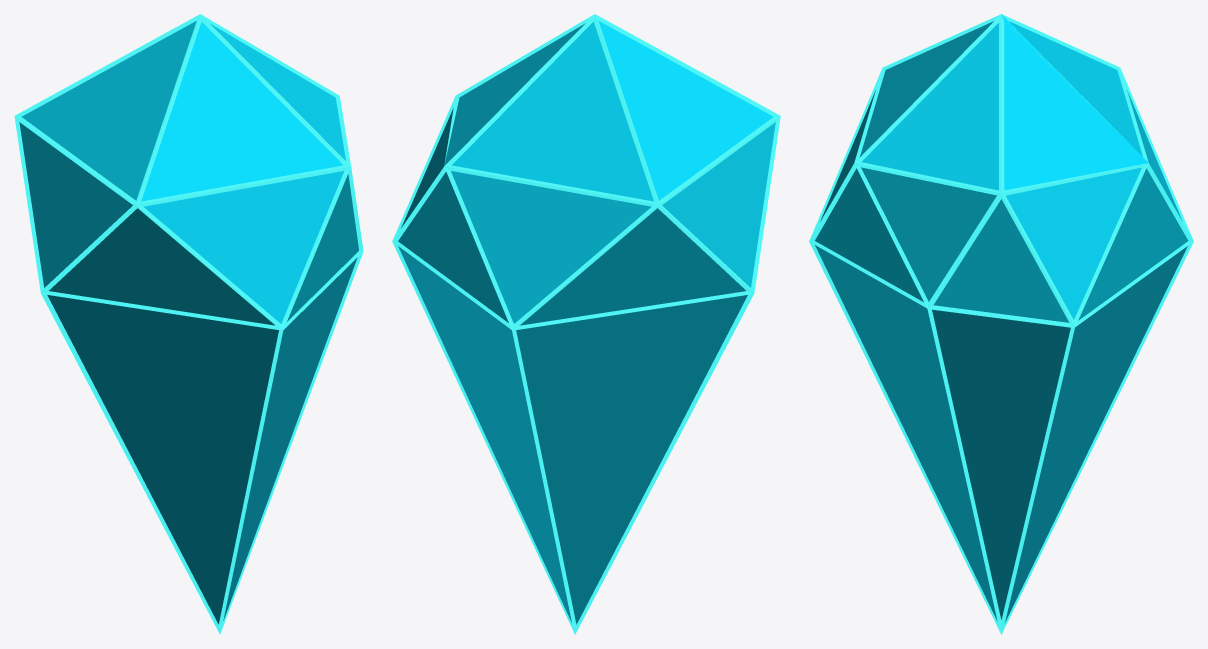
The model's file is crystal.fbx.
The picture shows the model from 3 angles, left to right: view 1: azimuth 30°, elevation 25°; view 2: azimuth 150°, elevation 25°; view 3: azimuth 270°, elevation 25°; orthographic projection. The views are drawn at different scales.
Parts seen in each view (by area): view 1: Icosphere, Icosphere.001; view 2: Icosphere, Icosphere.001; view 3: Icosphere, Icosphere.001.
Boxes of the visible parts, x1,y1,x2,y2 form: Icosphere: (19, 21, 358, 624); Icosphere.001: (14, 14, 363, 634); Icosphere: (398, 21, 775, 624); Icosphere.001: (392, 14, 780, 634); Icosphere: (815, 14, 1188, 622); Icosphere.001: (809, 14, 1193, 634).
Bounding box in the file's own units: 164 × 303 × 173.
